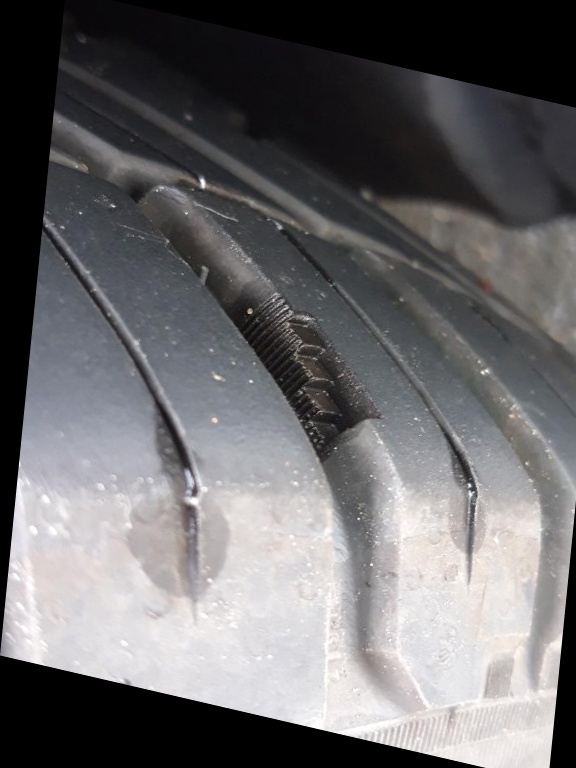temoin:90: (224, 279, 402, 477)
